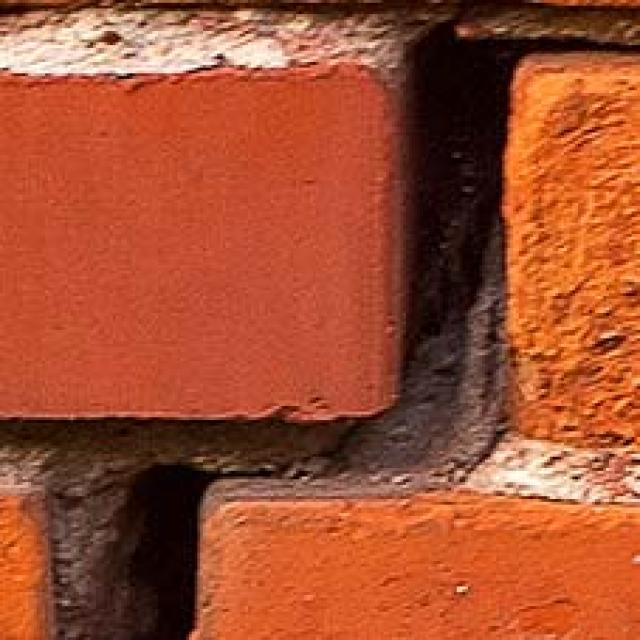Crack: (27, 0, 596, 640)
